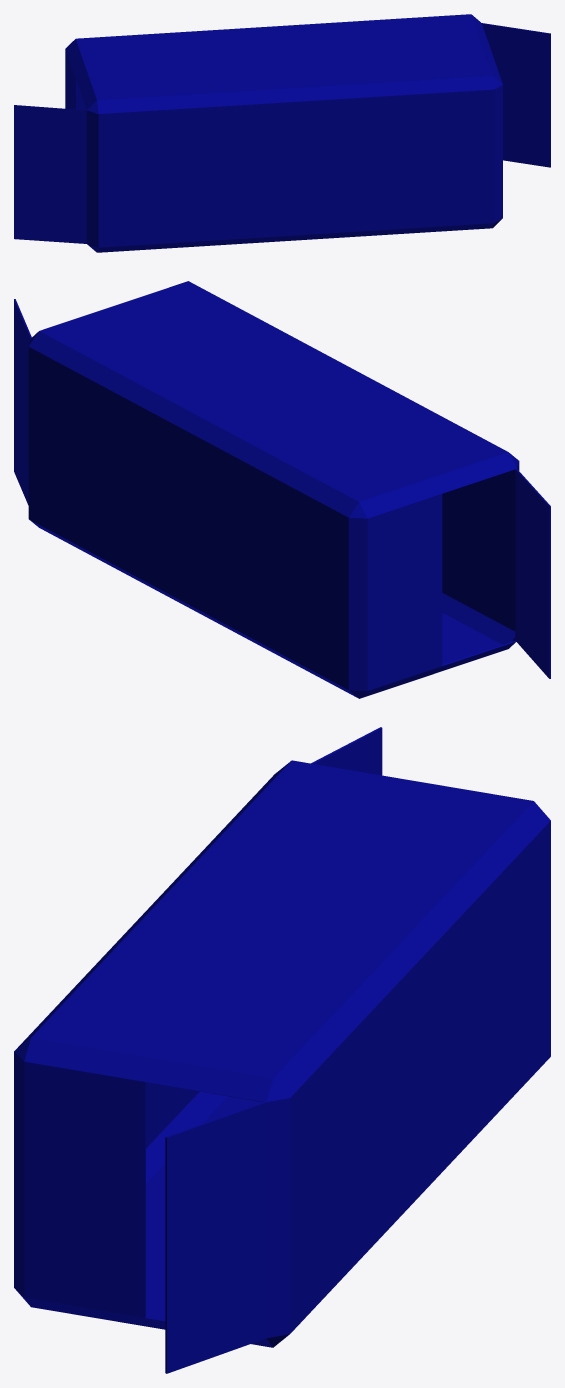
Rendered from ContainerV2.fbx.
3 renders of one model, top to bottom at view 1: azimuth 30°, elevation 25°; view 2: azimuth 150°, elevation 25°; view 3: azimuth 270°, elevation 25°, orthographic. The views are drawn at different scales.
Parts seen in each view (by area): view 1: Cube.585; view 2: Cube.585; view 3: Cube.585.
Part boxes in pixels (x1,y1,x2,y2): Cube.585: (14,14,550,252); Cube.585: (14,281,550,698); Cube.585: (14,727,550,1373).
Bounding box in the file's own units: 1308 × 400 × 723.
